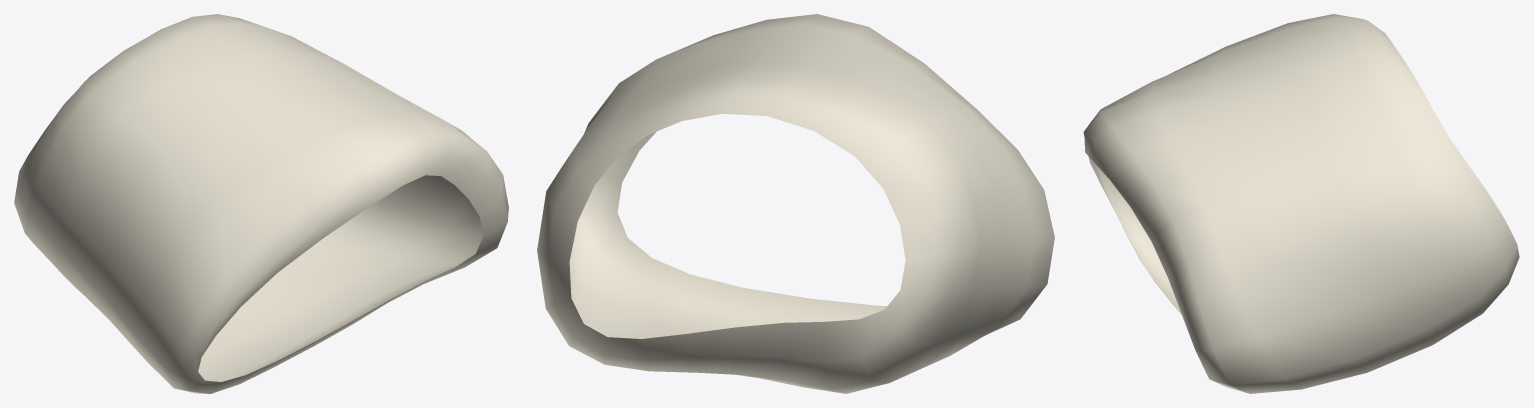
The picture shows the model from 3 angles, left to right: view 1: azimuth 30°, elevation 25°; view 2: azimuth 150°, elevation 25°; view 3: azimuth 270°, elevation 25°; orthographic projection. The views are drawn at different scales.
Parts seen in each view (by area): view 1: ZA_52a2ecf1ecd8b39d; view 2: ZA_52a2ecf1ecd8b39d; view 3: ZA_52a2ecf1ecd8b39d.
Part boxes in pixels (bbox=[...]): ZA_52a2ecf1ecd8b39d: bbox=[14, 14, 508, 393]; ZA_52a2ecf1ecd8b39d: bbox=[537, 14, 1054, 393]; ZA_52a2ecf1ecd8b39d: bbox=[1083, 14, 1519, 393].
Bounding box in the file's own units: 0.0211 × 0.0139 × 0.0193.
